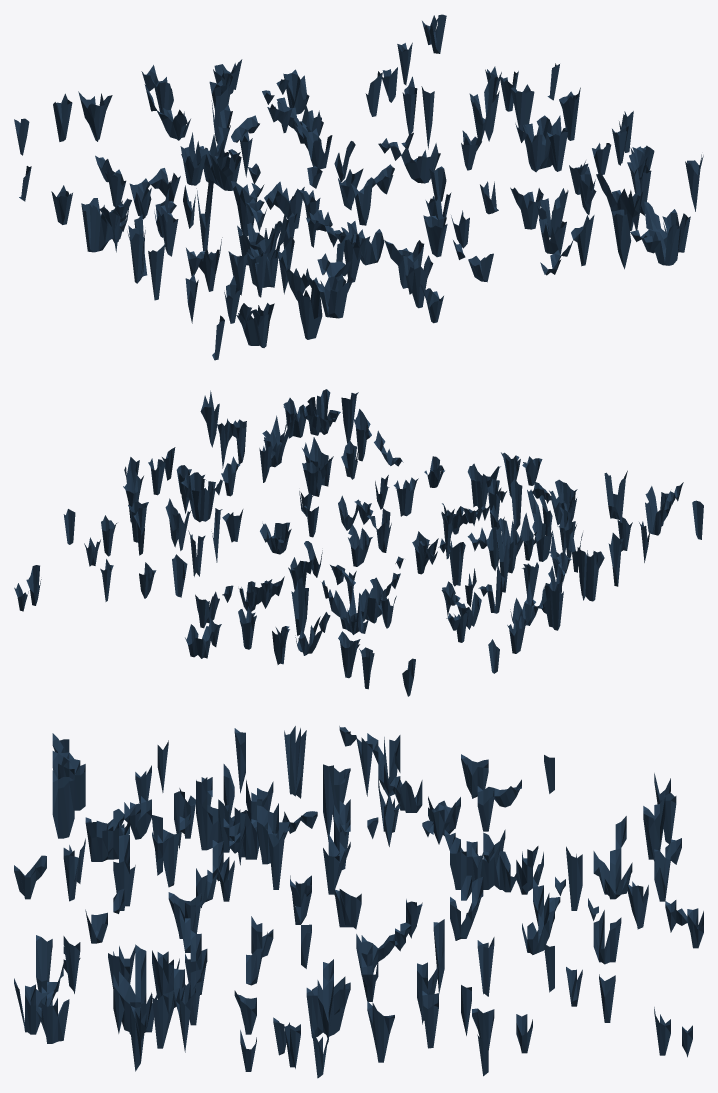
Rendered from landscape_FOREST_v1_rivers.obj.
3 views of the same model, one above another, from view 1: azimuth 30°, elevation 25°; view 2: azimuth 150°, elevation 25°; view 3: azimuth 270°, elevation 25° (orthographic). The views are drawn at different scales.
Visible parts, largest first — view 1: rivers_FOREST; view 2: rivers_FOREST; view 3: rivers_FOREST.
Boxes of the visible parts, <box> form: rivers_FOREST: <box>14,14,703,360</box>; rivers_FOREST: <box>14,389,703,696</box>; rivers_FOREST: <box>14,726,703,1078</box>.
Bounding box in the file's own units: 255 × 32.52 × 250.
